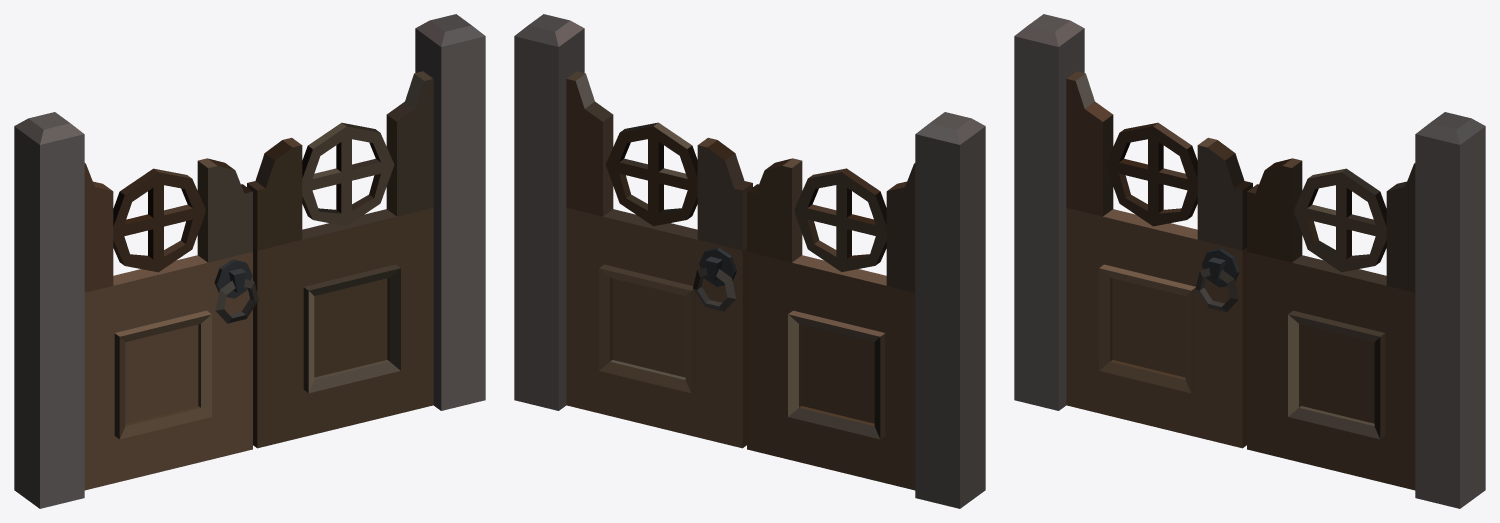
File: MidWall-Gate.fbx
3 renders of one model, left to right at view 1: azimuth 30°, elevation 25°; view 2: azimuth 150°, elevation 25°; view 3: azimuth 330°, elevation 25°, orthographic.
Visible parts, largest first — view 1: MidWall-Gate; view 2: MidWall-Gate; view 3: MidWall-Gate.
Part boxes in pixels (x1,y1,x2,y2): MidWall-Gate: [14, 14, 485, 508]; MidWall-Gate: [514, 14, 985, 508]; MidWall-Gate: [1014, 14, 1485, 508].
Bounding box in the file's own units: 250 × 200 × 25.
